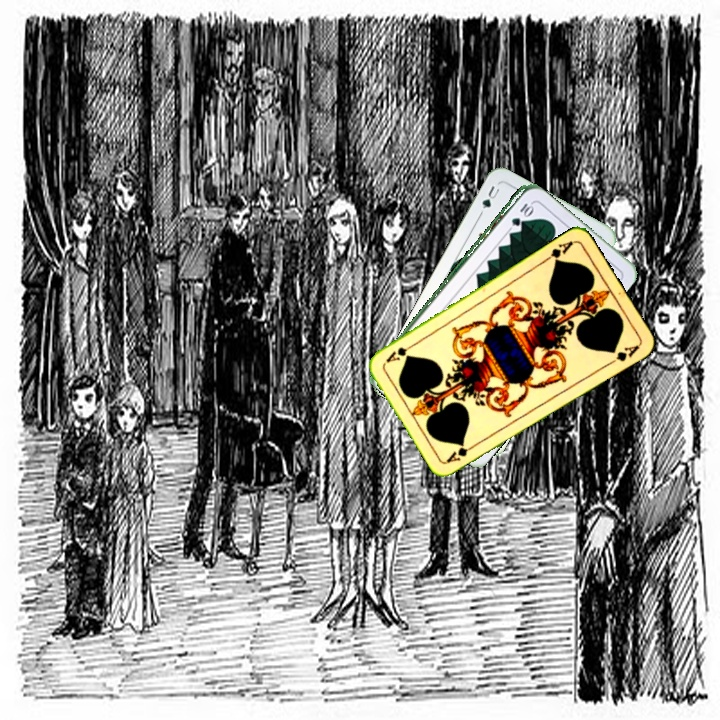G10: (507, 199, 535, 229)
GA: (539, 236, 576, 266), (442, 439, 480, 465)
GU: (478, 182, 502, 212)
